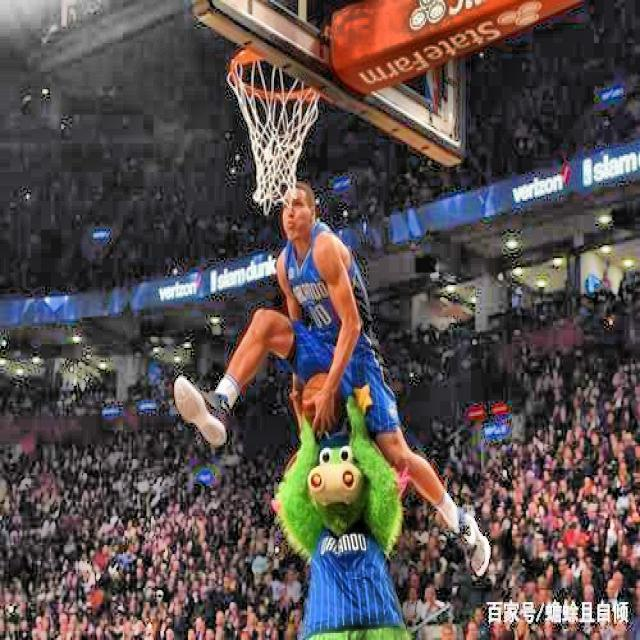rim: (230, 49, 318, 204)
